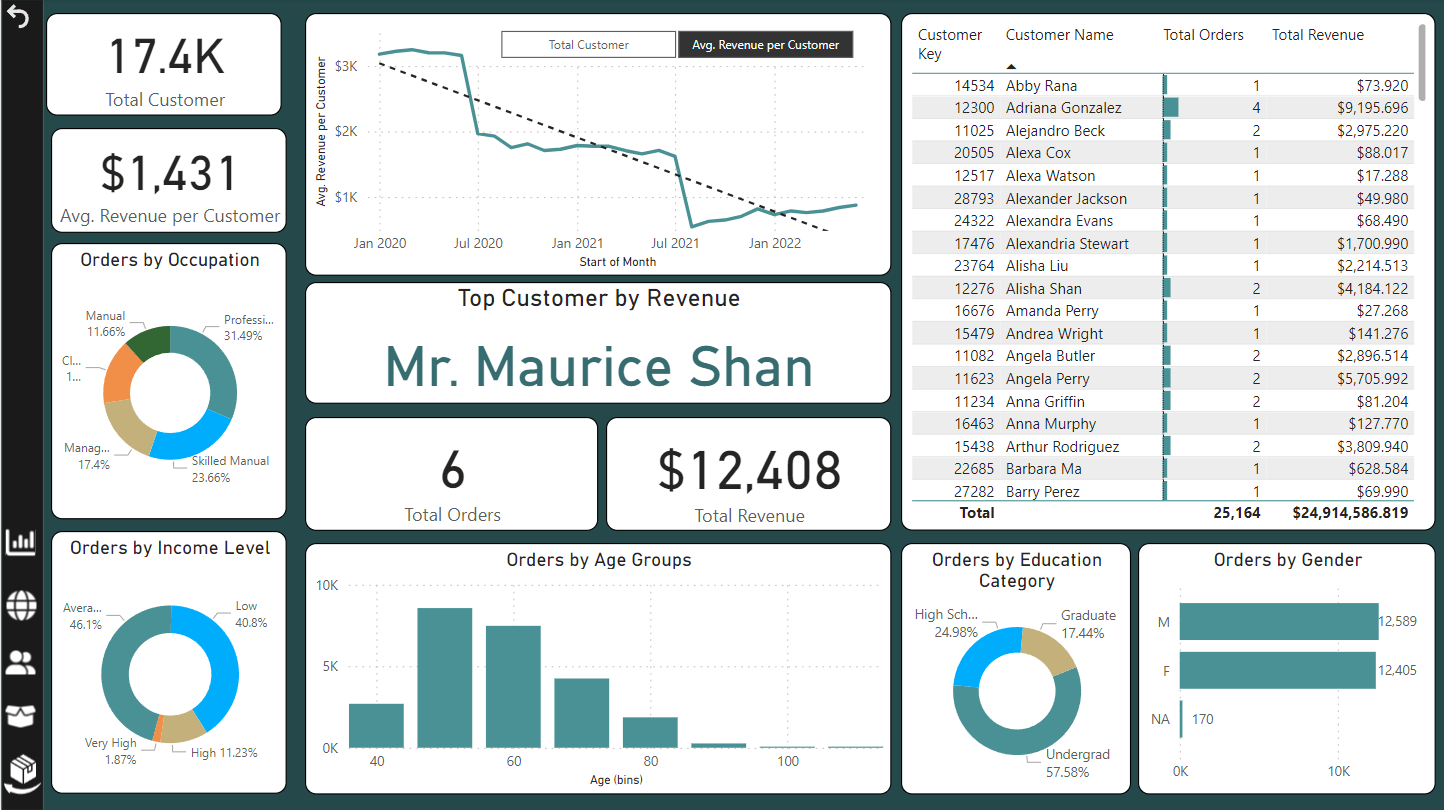

What the dashboard file says about the page in this screenshot:
{"tool":"powerbi","page":{"name":"Customer Details","canvas":[1280,720],"ordinal":2},"visuals":[{"type":"card","fields":{"Values":["_Measures.Total Customer"]},"box":[40.3,12.6,209.1,90.7],"z":0},{"type":"card","fields":{"Values":["_Measures.Avg. Revenue per Customer"]},"box":[44.3,114.4,209.3,93.1],"z":1000},{"type":"donutChart","title":"Orders by Occupation","fields":{"Category":["Customer Lookup.Occupation"],"Y":["_Measures.Total Orders"]},"box":[44.3,216.4,209.3,244.7],"z":2000},{"type":"donutChart","title":"Orders by Income Level","fields":{"Y":["_Measures.Total Orders"],"Category":["Customer Lookup.Income Level"]},"box":[44.3,471.7,209.3,233.2],"z":3000},{"type":"clusteredColumnChart","title":"Orders by Age Groups","fields":{"Y":["_Measures.Total Orders"],"Category":["Customer Lookup.Age (bins)"]},"box":[269.6,482.4,519.6,222.6],"z":4000},{"type":"tableEx","fields":{"Values":["Customer Lookup.CustomerKey","Customer Lookup.Customer Full name","_Measures.Total Orders","_Measures.Total Revenue"]},"box":[798,12.4,474.4,459.3],"z":5000},{"type":"lineChart","fields":{"Y":["_Measures.Avg. Revenue per Customer"],"Category":["Calendar Lookup.Start of Month"]},"box":[269.6,12.4,519.6,233.2],"z":6000},{"type":"slicer","fields":{"Values":["Customer_Metrices.Customer_Metrices"]},"box":[417.6,21.3,361.8,36.4],"z":7000},{"type":"card","title":"Top Customer by Revenue","fields":{"Values":["Customer Lookup.Customer Full name"]},"box":[269.6,250.9,519.6,108.2],"z":8000},{"type":"card","fields":{"Values":["_Measures.Total Orders"]},"box":[269.6,370.6,259.8,101.1],"z":9000},{"type":"card","fields":{"Values":["_Measures.Total Revenue"]},"box":[536.5,370.6,252.7,101.1],"z":10000},{"type":"donutChart","title":"Orders by Education Category","fields":{"Category":["Customer Lookup.Education Category"],"Y":["_Measures.Total Orders"]},"box":[798,482.4,203.9,222.6],"z":11000},{"type":"barChart","title":"Orders by Gender","fields":{"Y":["_Measures.Total Orders"],"Category":["Customer Lookup.Gender"]},"box":[1008.2,482.4,264.2,222.6],"z":12000},{"type":"shape","box":[0,0,38.2,720],"z":13000},{"type":"actionButton","box":[0,0,30.1,30.1],"z":14000},{"type":"actionButton","box":[0,464.6,37.2,34.6],"z":15000},{"type":"actionButton","box":[0.9,520.5,37.2,34.6],"z":16000},{"type":"actionButton","box":[0,571,37.2,34.6],"z":17000},{"type":"actionButton","box":[0,618.9,37.2,34.6],"z":18000},{"type":"actionButton","box":[0,663.3,38.1,47.9],"z":19000}]}

Visuals, with their boxes on the page's 1280x720 design canvas (x1, y1, x2, y2). These are canvas units, not pixel positions in the 1444x810 screenshot, which may show the page scaled, cropped or inside an application window:
card - _Measures.Total Customer: 40,13,249,103
card - _Measures.Avg. Revenue per Customer: 44,114,254,208
"Orders by Occupation" donutChart: 44,216,254,461
"Orders by Income Level" donutChart: 44,472,254,705
"Orders by Age Groups" clusteredColumnChart: 270,482,789,705
tableEx - Customer Lookup.CustomerKey x Customer Lookup.Customer Full name: 798,12,1272,472
lineChart - _Measures.Avg. Revenue per Customer x Calendar Lookup.Start of Month: 270,12,789,246
slicer - Customer_Metrices.Customer_Metrices: 418,21,779,58
"Top Customer by Revenue" card: 270,251,789,359
card - _Measures.Total Orders: 270,371,529,472
card - _Measures.Total Revenue: 536,371,789,472
"Orders by Education Category" donutChart: 798,482,1002,705
"Orders by Gender" barChart: 1008,482,1272,705
shape: 0,0,38,720
actionButton: 0,0,30,30
actionButton: 0,465,37,499
actionButton: 1,520,38,555
actionButton: 0,571,37,606
actionButton: 0,619,37,654
actionButton: 0,663,38,711
